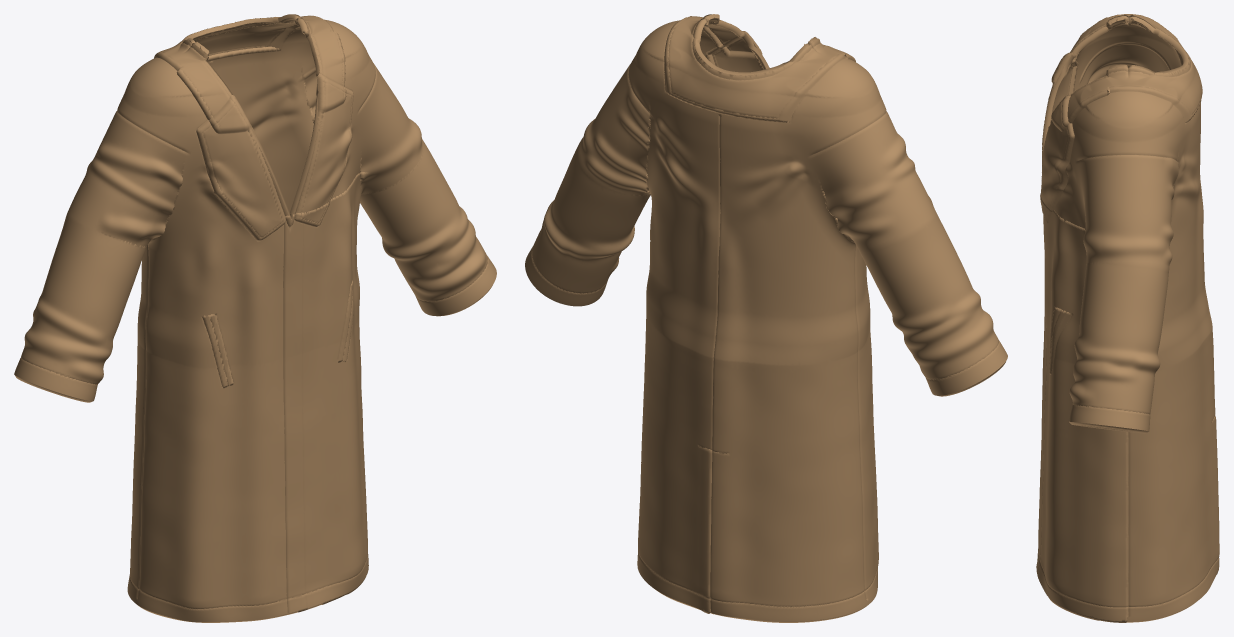
File: 03_abrigo_largo.glb
3 renders of one model, left to right at view 1: azimuth 30°, elevation 25°; view 2: azimuth 150°, elevation 25°; view 3: azimuth 270°, elevation 25°, orthographic. The views are drawn at different scales.
Visible parts, largest first — view 1: body; view 2: body; view 3: body.
Part boxes in pixels (x1,y1,x2,y2): body: (14, 14, 496, 622); body: (525, 14, 1007, 622); body: (1036, 14, 1219, 622).
Size of the model in its own units: 1.08 by 1.21 by 0.3764.
